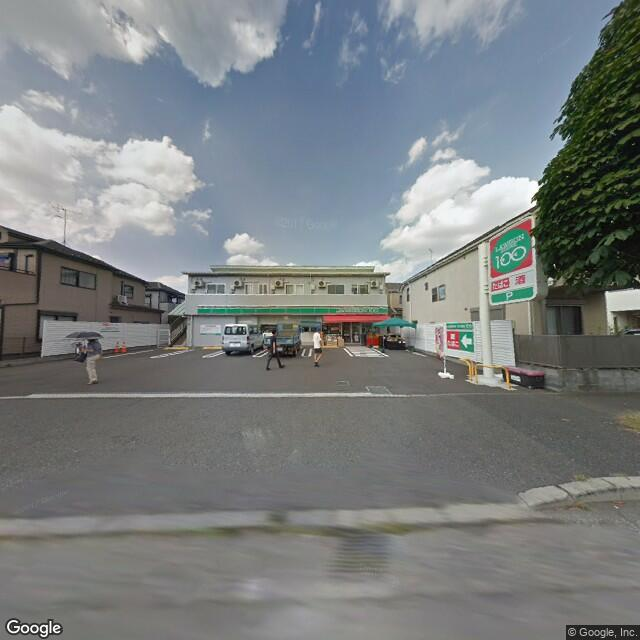lawson: (488, 212, 539, 283), (194, 302, 390, 319)
